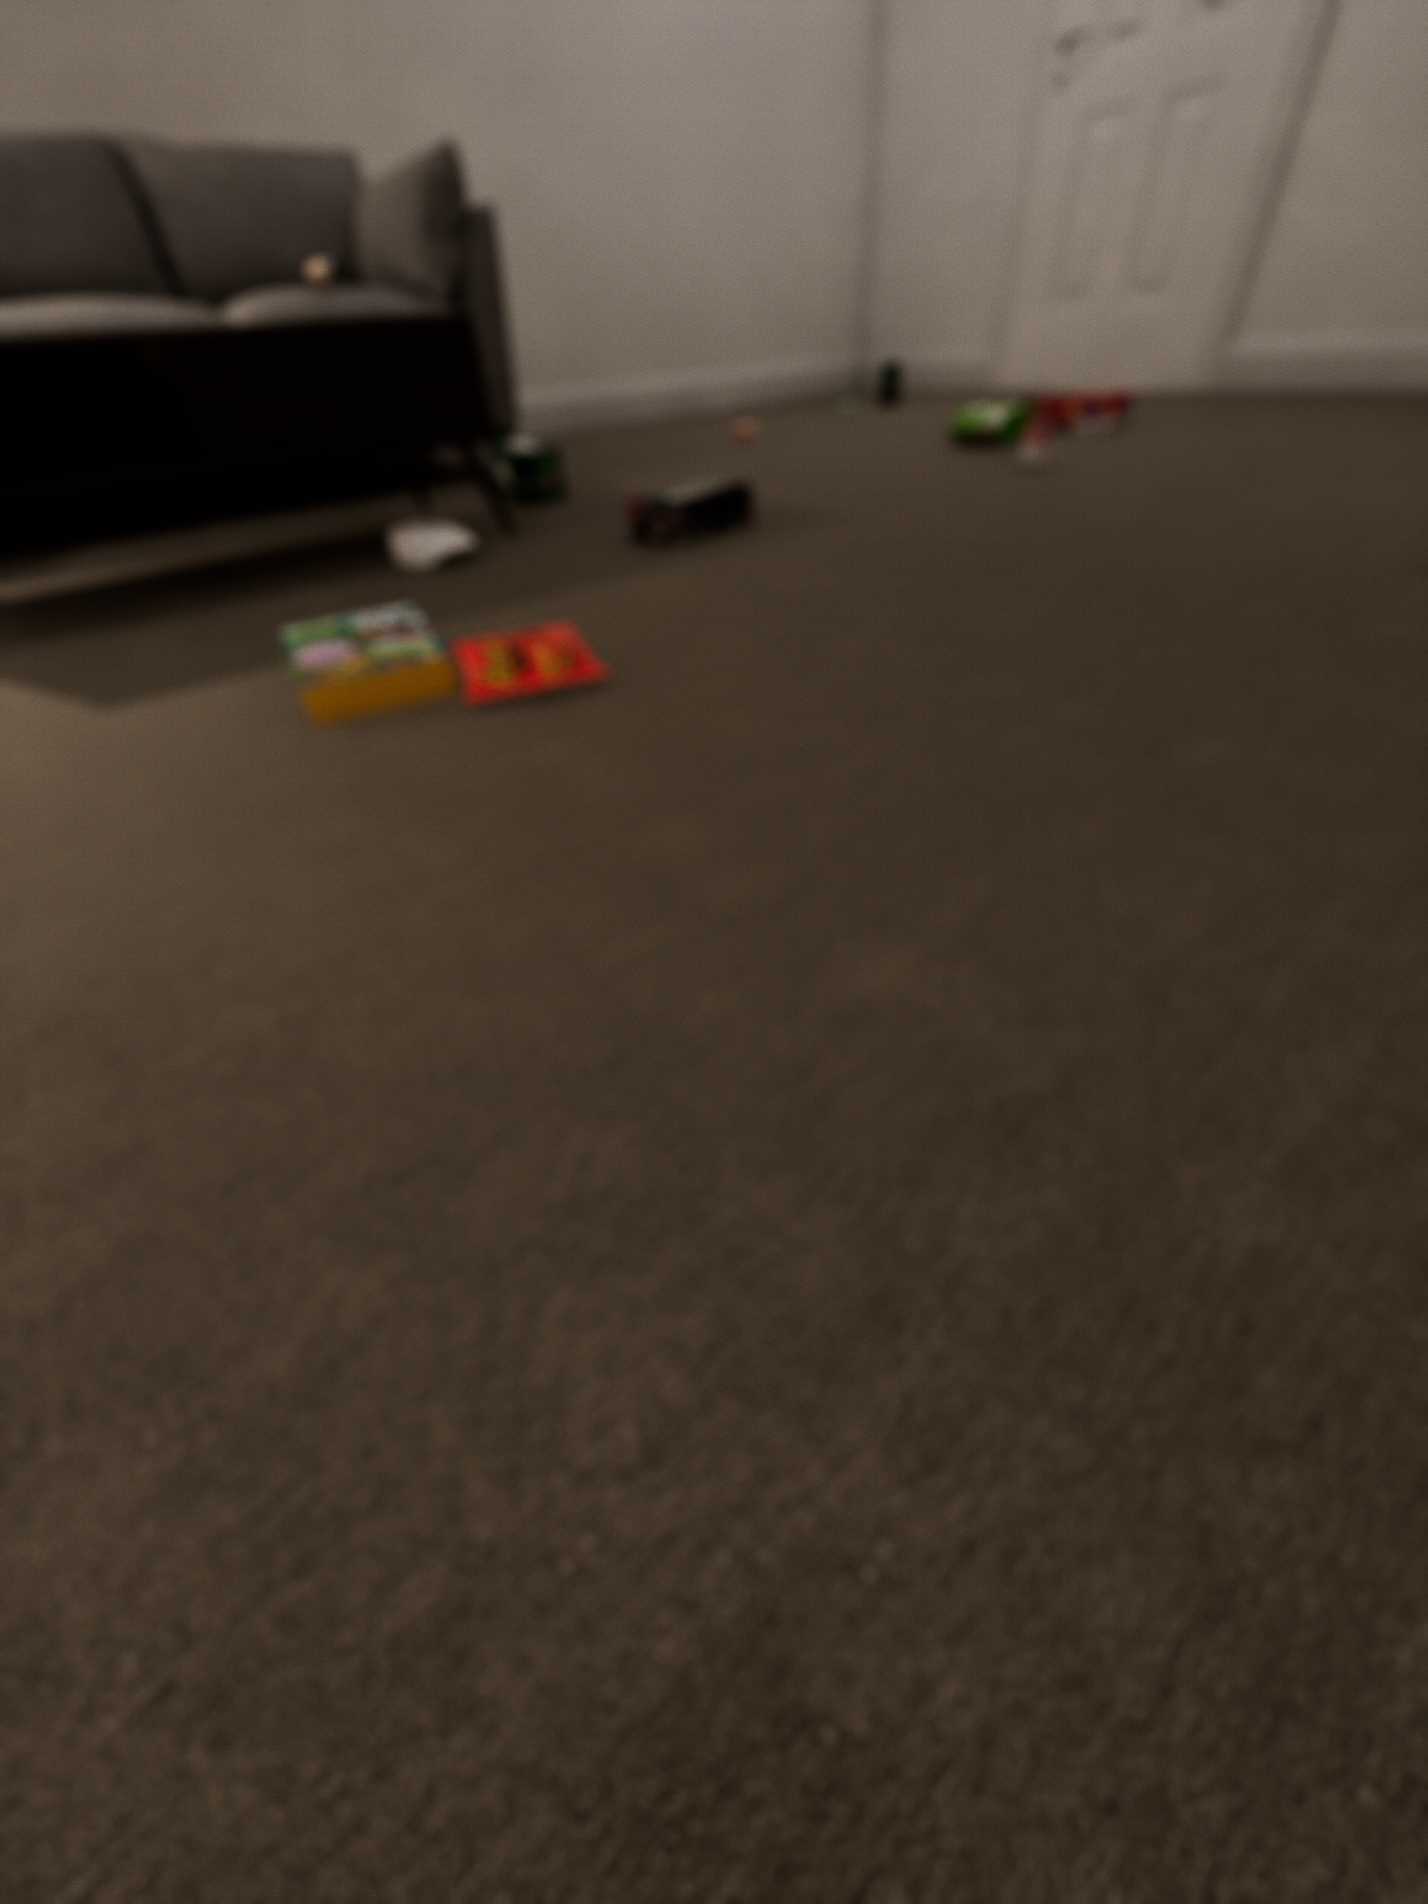soup: (1018, 421, 1053, 469)
